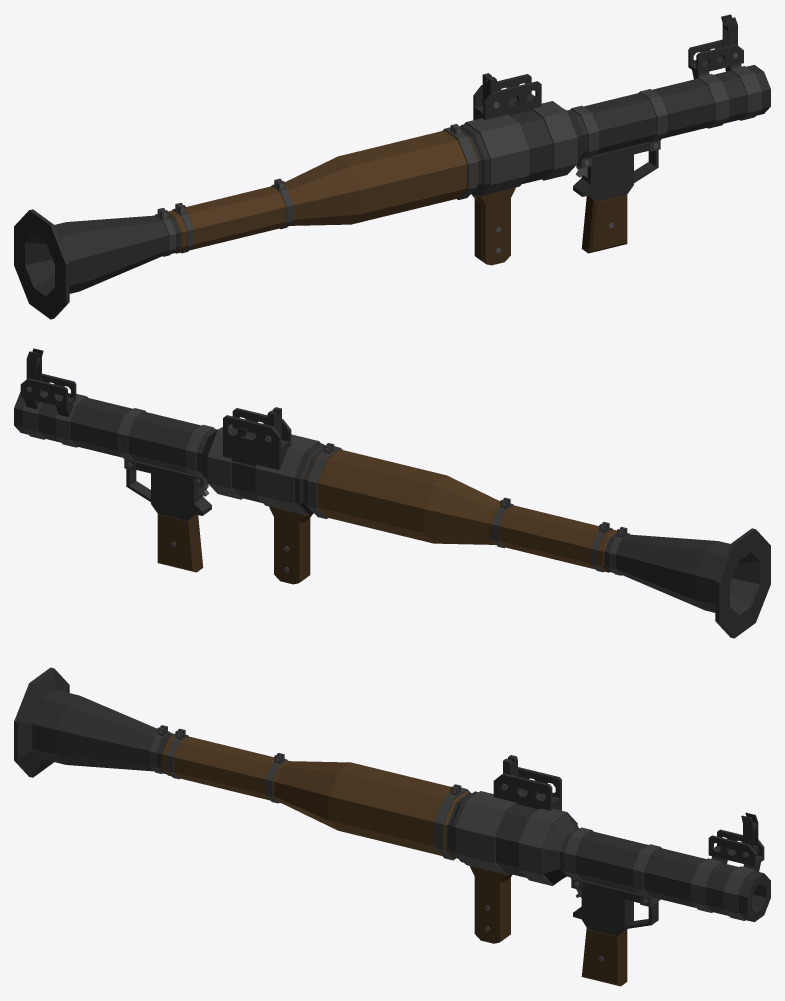
File: HeavyWeapon2_02.fbx
3 renders of one model, top to bottom at view 1: azimuth 30°, elevation 25°; view 2: azimuth 150°, elevation 25°; view 3: azimuth 330°, elevation 25°, orthographic.
Parts seen in each view (by area): view 1: HeavyWeapon2_02; view 2: HeavyWeapon2_02; view 3: HeavyWeapon2_02.
Part boxes in pixels (left/top/right/bottom): HeavyWeapon2_02: left=14, top=14, right=770, bottom=319; HeavyWeapon2_02: left=14, top=348, right=770, bottom=638; HeavyWeapon2_02: left=14, top=667, right=770, bottom=986.
Size of the model in its own units: 1.09 by 0.2731 by 0.1355.
